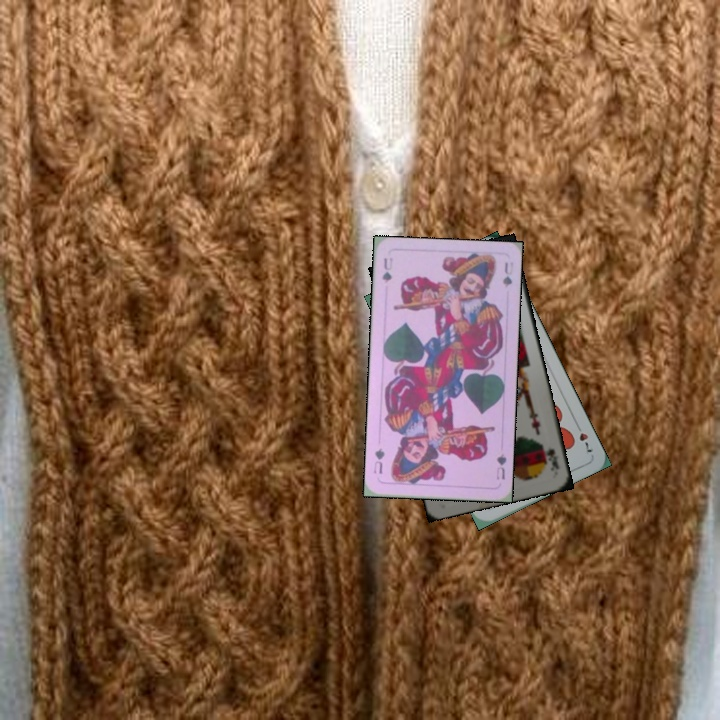GU: (492, 450, 509, 482), (378, 254, 395, 285)
H7: (571, 419, 595, 455)
SK: (538, 440, 562, 474)
